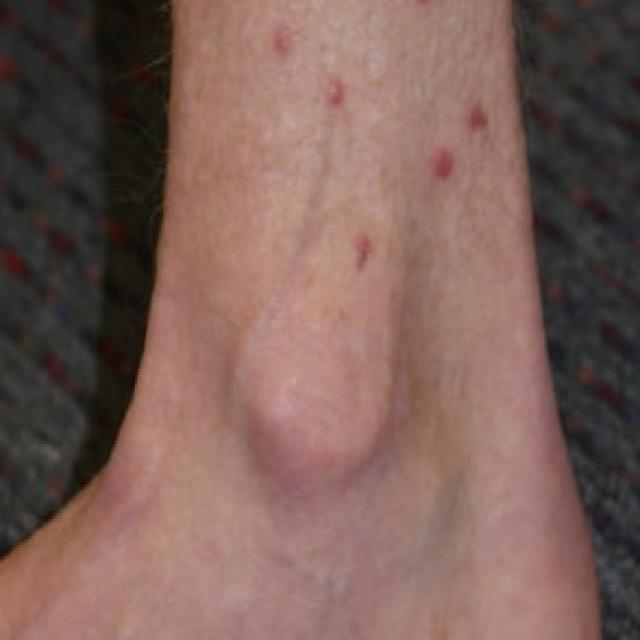kan emici bocekler: (454, 65, 497, 150), (331, 223, 399, 269), (318, 52, 351, 126), (419, 140, 465, 186), (266, 20, 302, 74)
